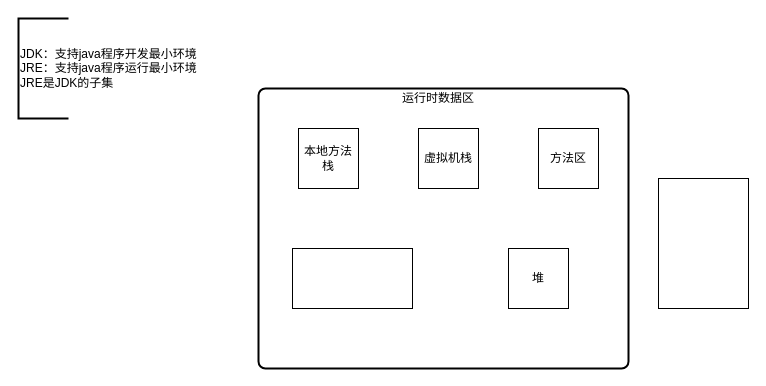
Image size: 766x386. Some labels were removed from this diagram. Each missing label, with the centre of its shape:
直接内存: (x=703, y=243)
程序计数器: (x=352, y=278)
